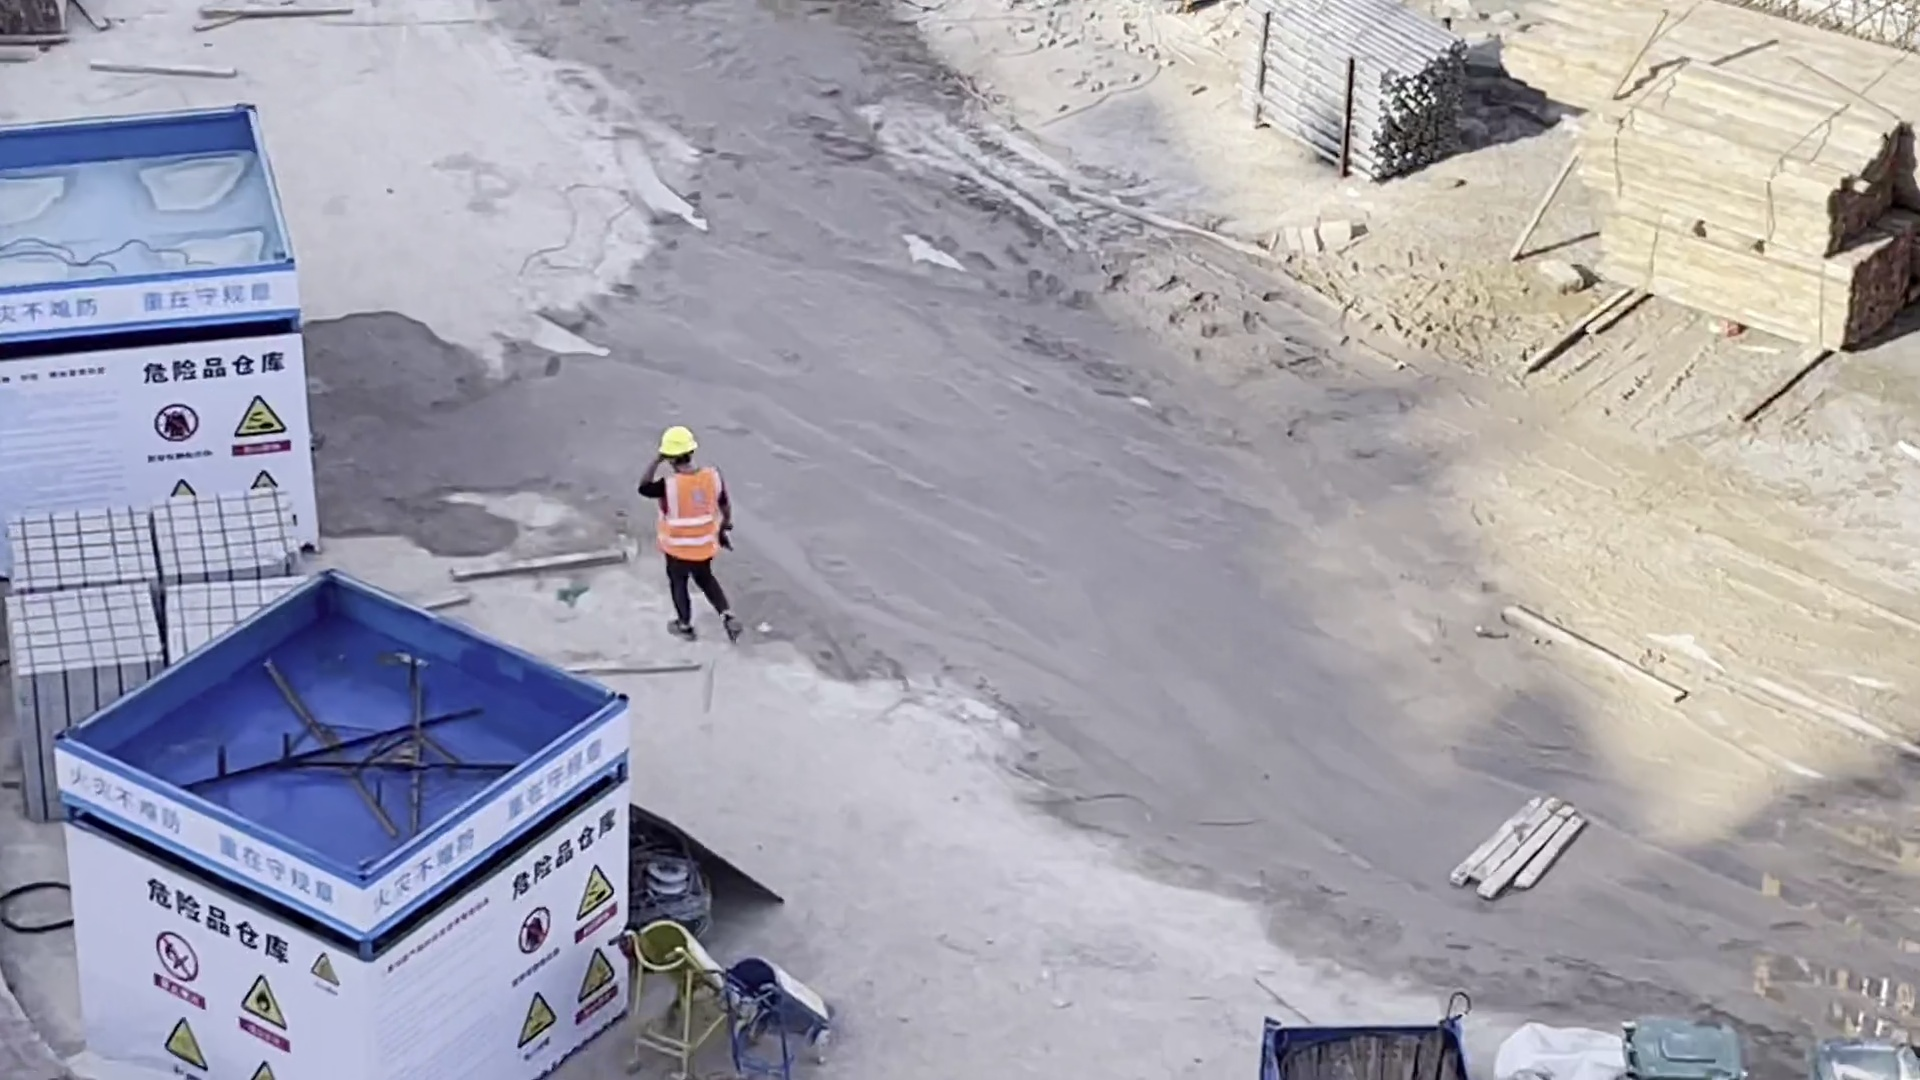helmet: (659, 429, 697, 458)
hopper: (1262, 1012, 1469, 1080)
person: (646, 429, 742, 641)
scaffold: (1247, 1, 1467, 179)
slogan: (69, 737, 652, 904), (125, 915, 335, 1080), (476, 864, 627, 1060), (147, 397, 294, 495), (4, 283, 294, 322)
vest: (655, 476, 721, 564)
wood: (1583, 70, 1905, 319), (1511, 1, 1920, 159)
